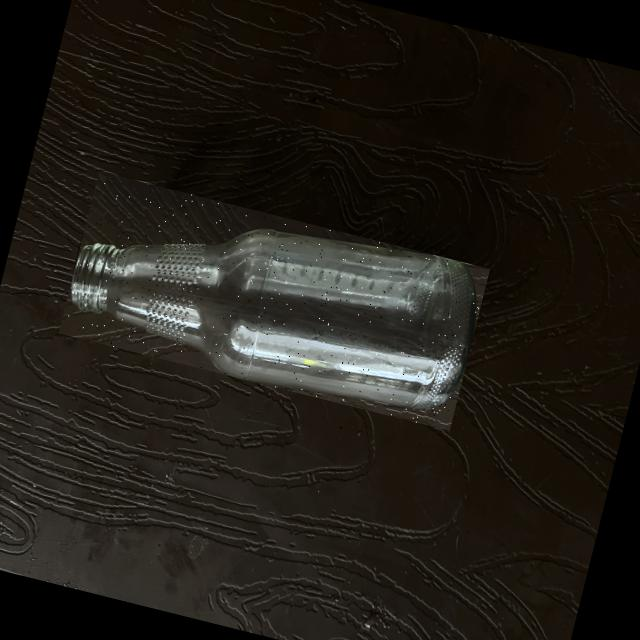Glass_Bottle: (72, 229, 476, 408)
